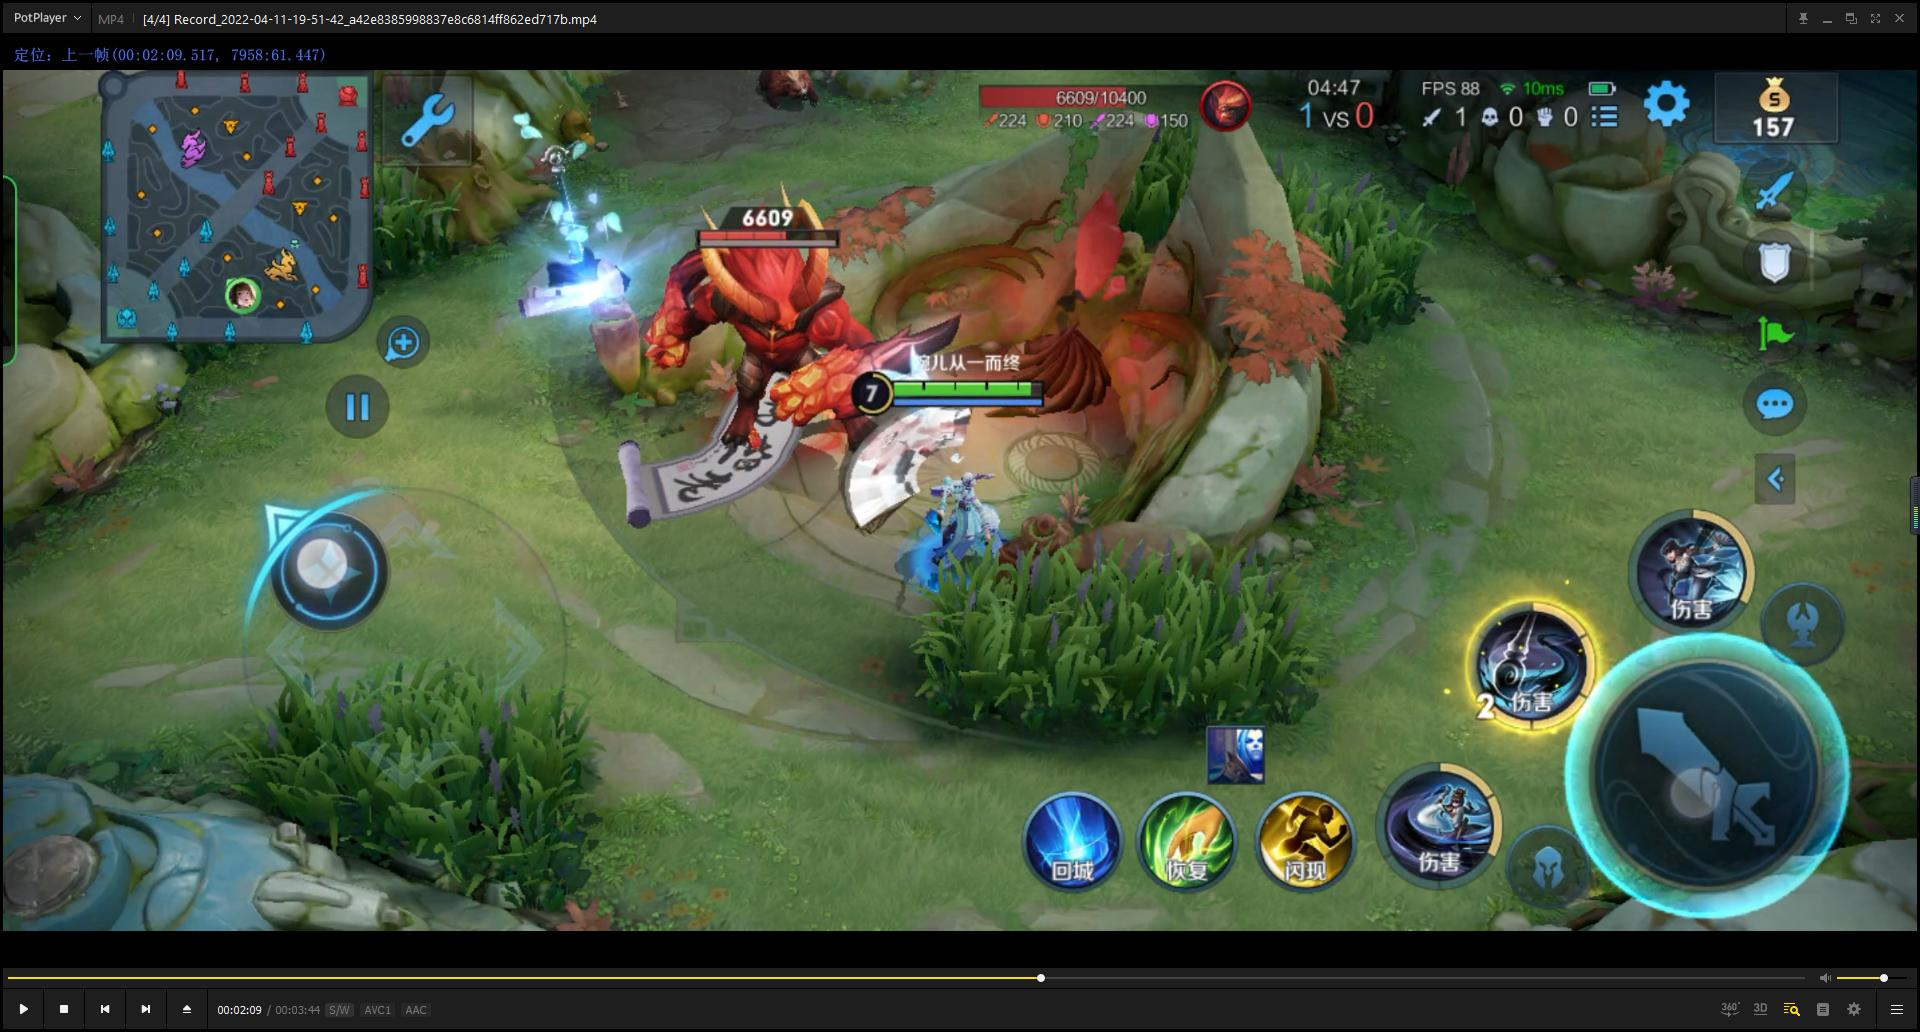Buff: (638, 186, 953, 484)
Hero: (828, 419, 1045, 630)
Pig: (742, 67, 835, 121)
